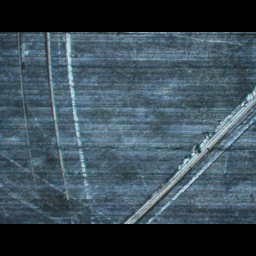d: (113, 85, 256, 224), (11, 32, 101, 215)
